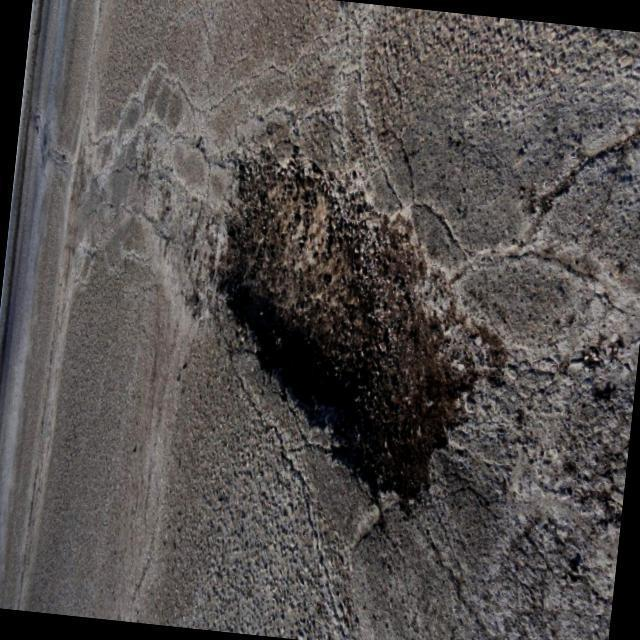Pothole: (210, 140, 517, 521)
